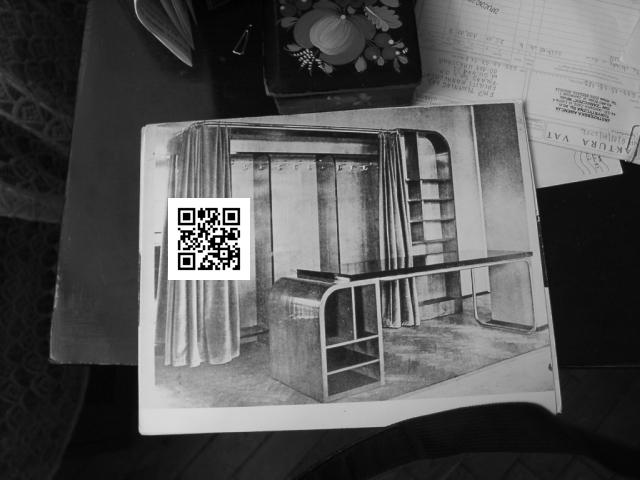qr_code: (168, 199, 250, 279)
